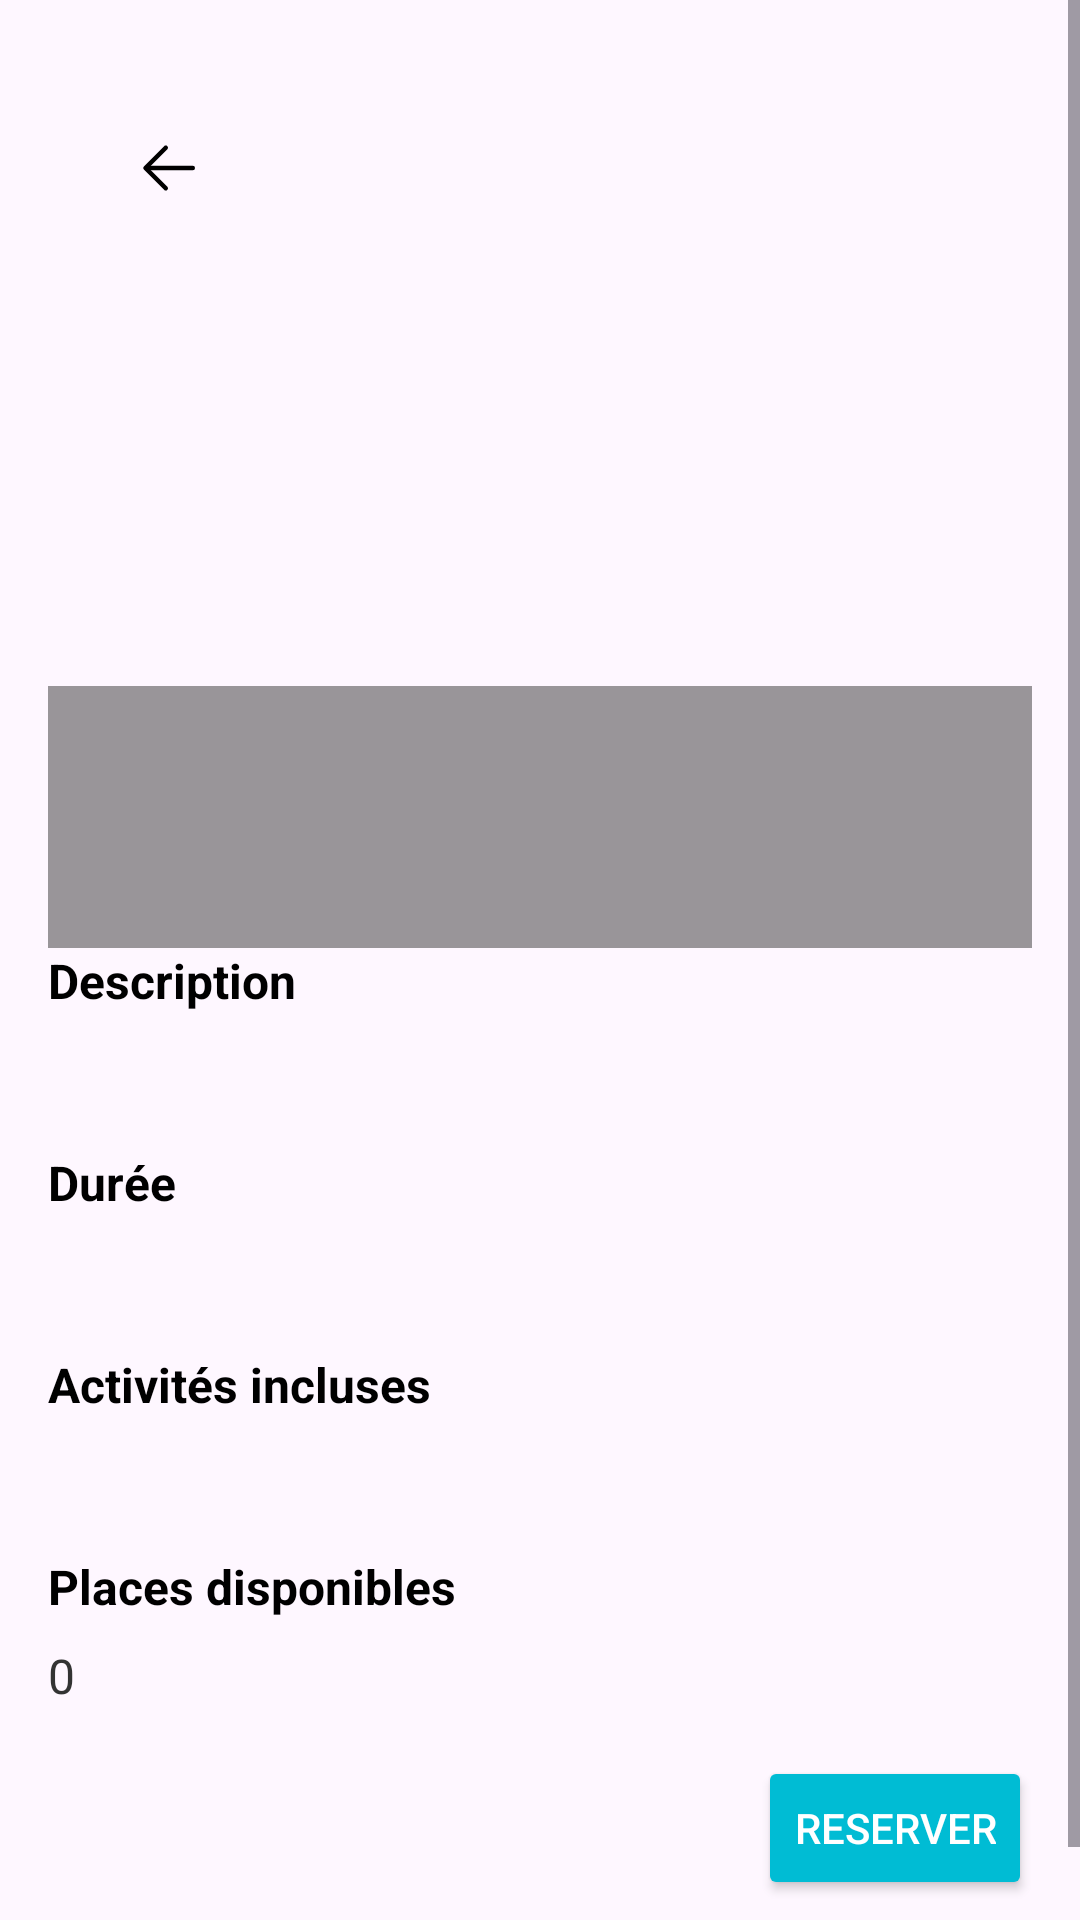

Icon click points for this 1080*1920 phone screenshot, format point (x, y):
Back: point (169, 168)
